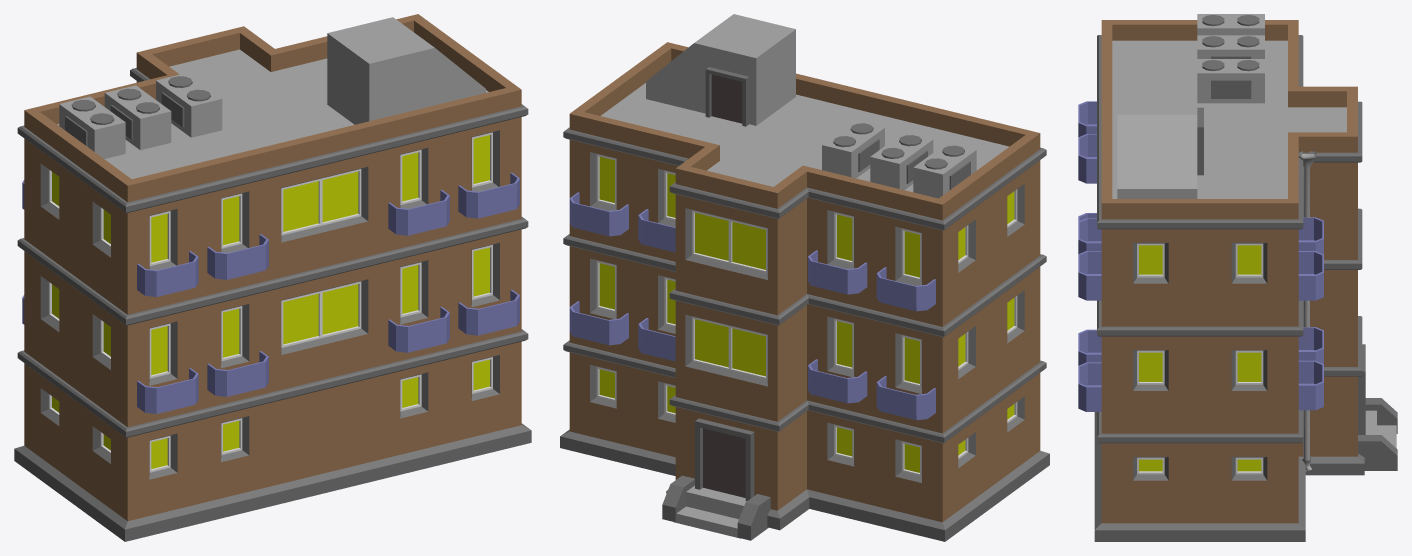
The model's file is Home_V4.fbx.
3 renders of one model, left to right at view 1: azimuth 30°, elevation 25°; view 2: azimuth 150°, elevation 25°; view 3: azimuth 270°, elevation 25°, orthographic. The views are drawn at different scales.
Parts seen in each view (by area): view 1: Home_4; view 2: Home_4; view 3: Home_4.
Part boxes in pixels (left/top/right/bottom): Home_4: left=14, top=14, right=531, bottom=541; Home_4: left=560, top=14, right=1049, bottom=541; Home_4: left=1078, top=14, right=1397, bottom=541.
Bounding box in the file's own units: 22.7 × 21.84 × 16.2.
